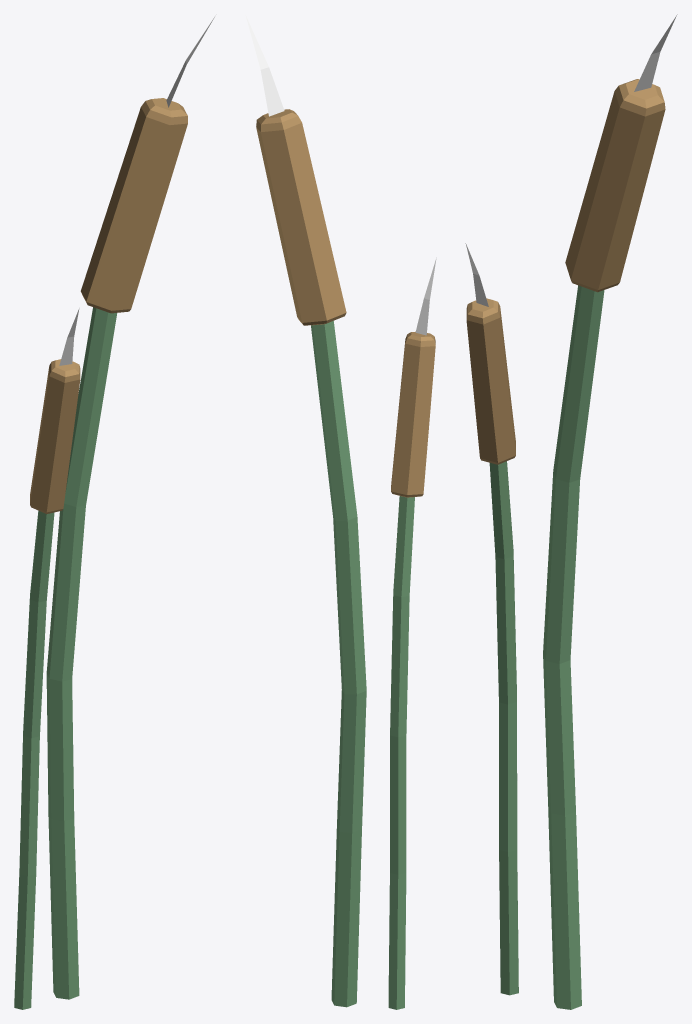
The model's file is Reeds(3).fbx.
The picture shows the model from 3 angles, left to right: view 1: azimuth 30°, elevation 25°; view 2: azimuth 150°, elevation 25°; view 3: azimuth 330°, elevation 25°; orthographic projection. The views are drawn at different scales.
Parts seen in each view (by area): view 1: Reeds(3); view 2: Reeds(3); view 3: Reeds(3).
Part boxes in pixels (box(x1,y1,x2,y2)): Reeds(3): box(14, 17, 214, 1009); Reeds(3): box(245, 15, 436, 1009); Reeds(3): box(465, 14, 677, 1009).
Bounding box in the file's own units: 0.5212 × 2.6 × 0.2963.
